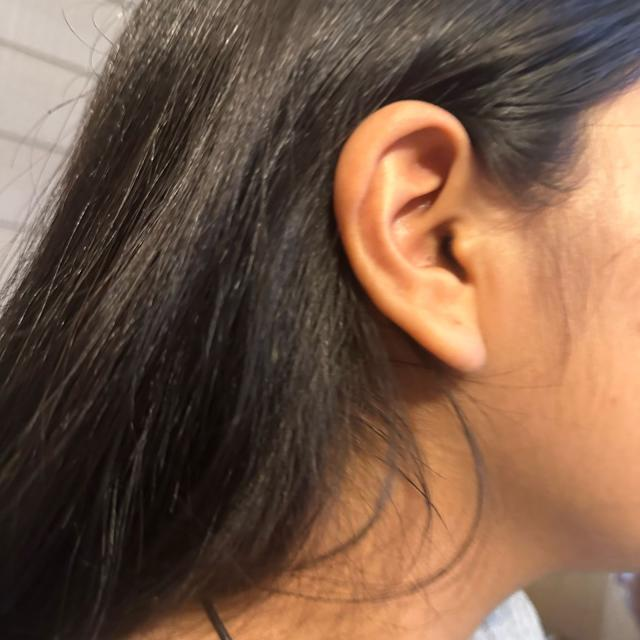ear: (334, 101, 486, 371)
